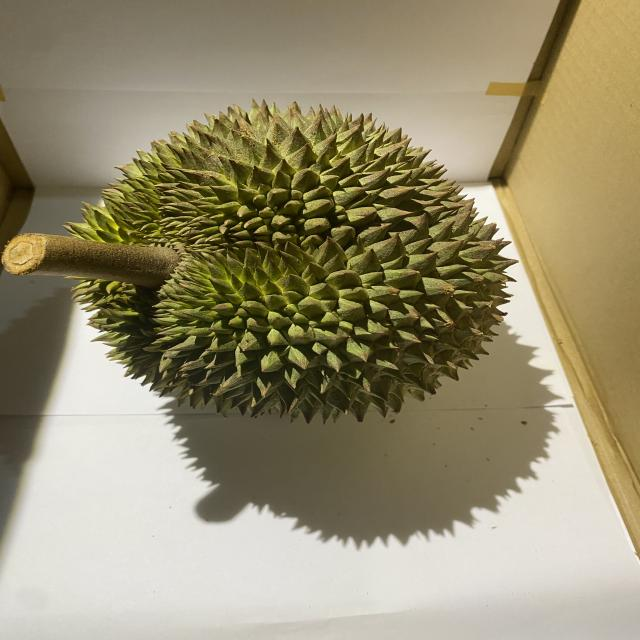immature: (59, 98, 518, 429)
